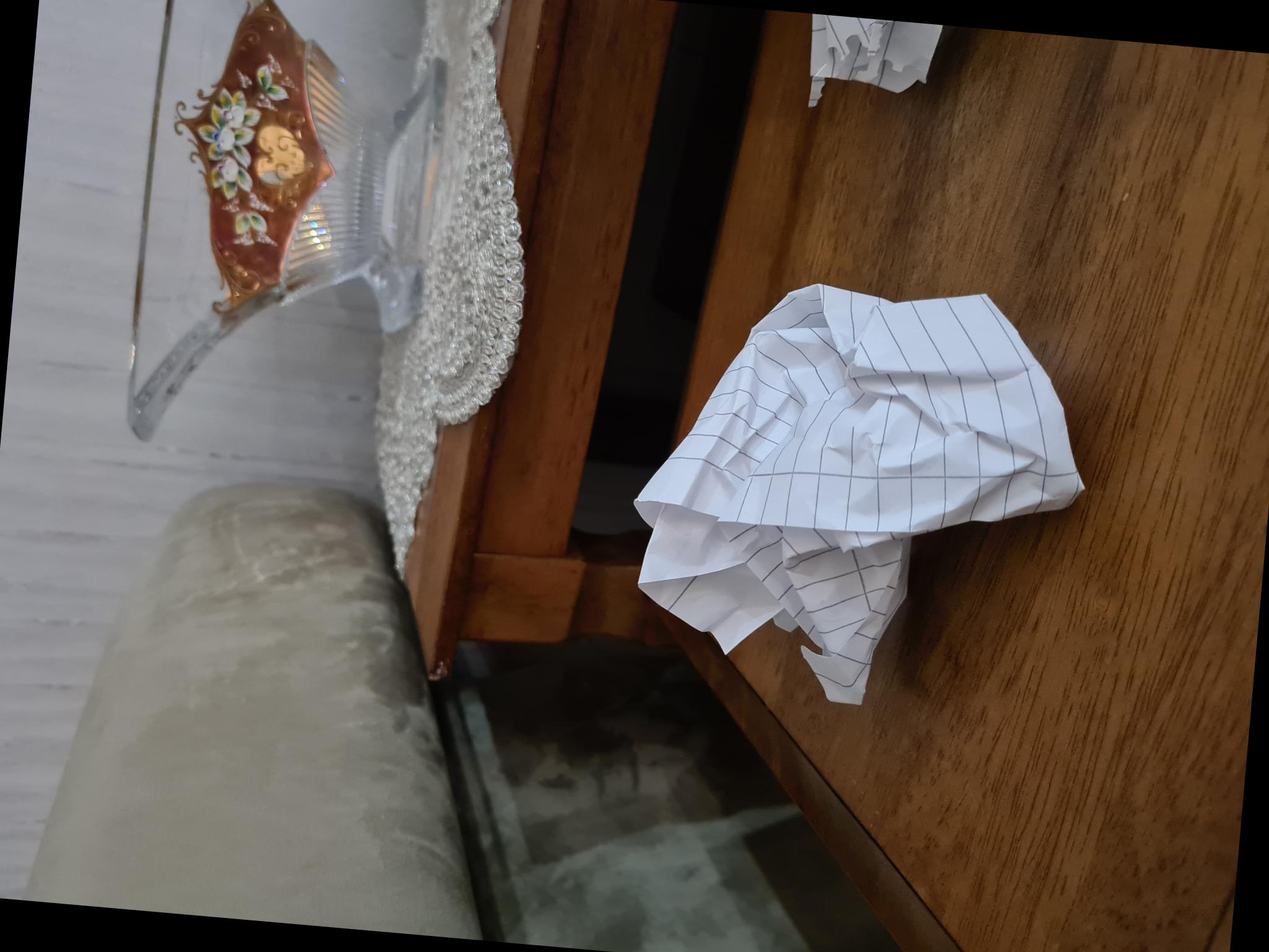Kertas: (219, 614, 672, 952)
